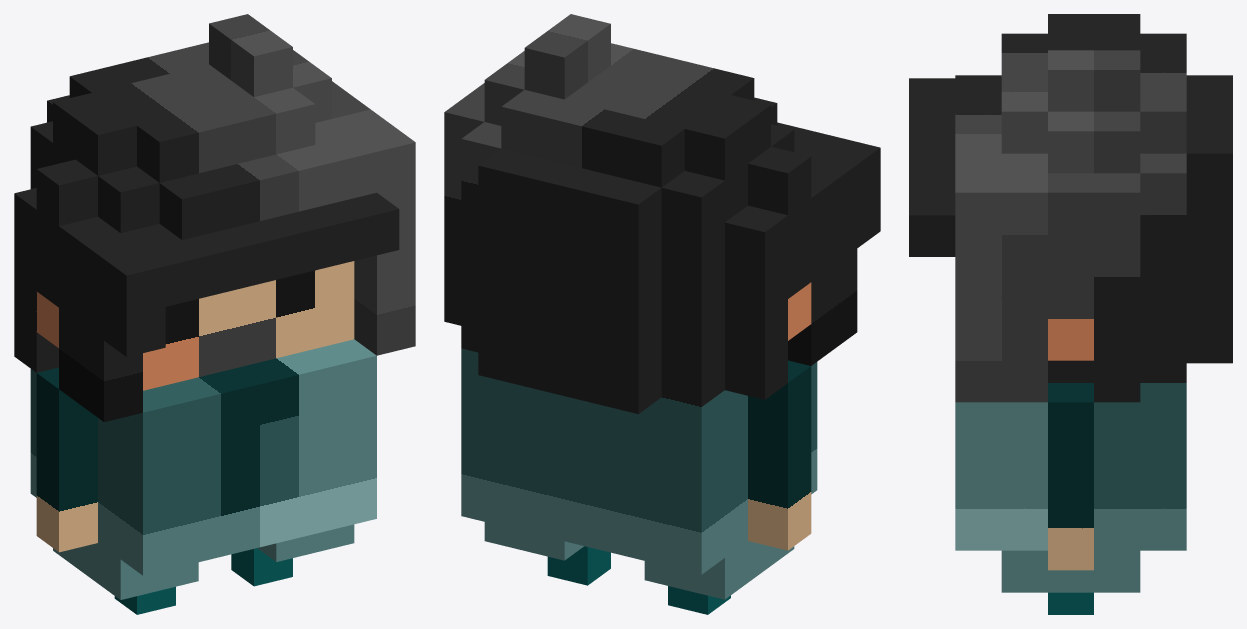
The model's file is chr_man.obj.
3 renders of one model, left to right at view 1: azimuth 30°, elevation 25°; view 2: azimuth 150°, elevation 25°; view 3: azimuth 270°, elevation 25°, orthographic. The views are drawn at different scales.
Visible parts, largest first — view 1: Model; view 2: Model; view 3: Model.
Boxes of the visible parts, <box> form: Model: <box>14,14,415,614</box>; Model: <box>444,14,880,614</box>; Model: <box>909,14,1232,614</box>.
Bounding box in the file's own units: 0.8 × 1.3 × 0.7.
Materials: 1 (1 with a texture image).
